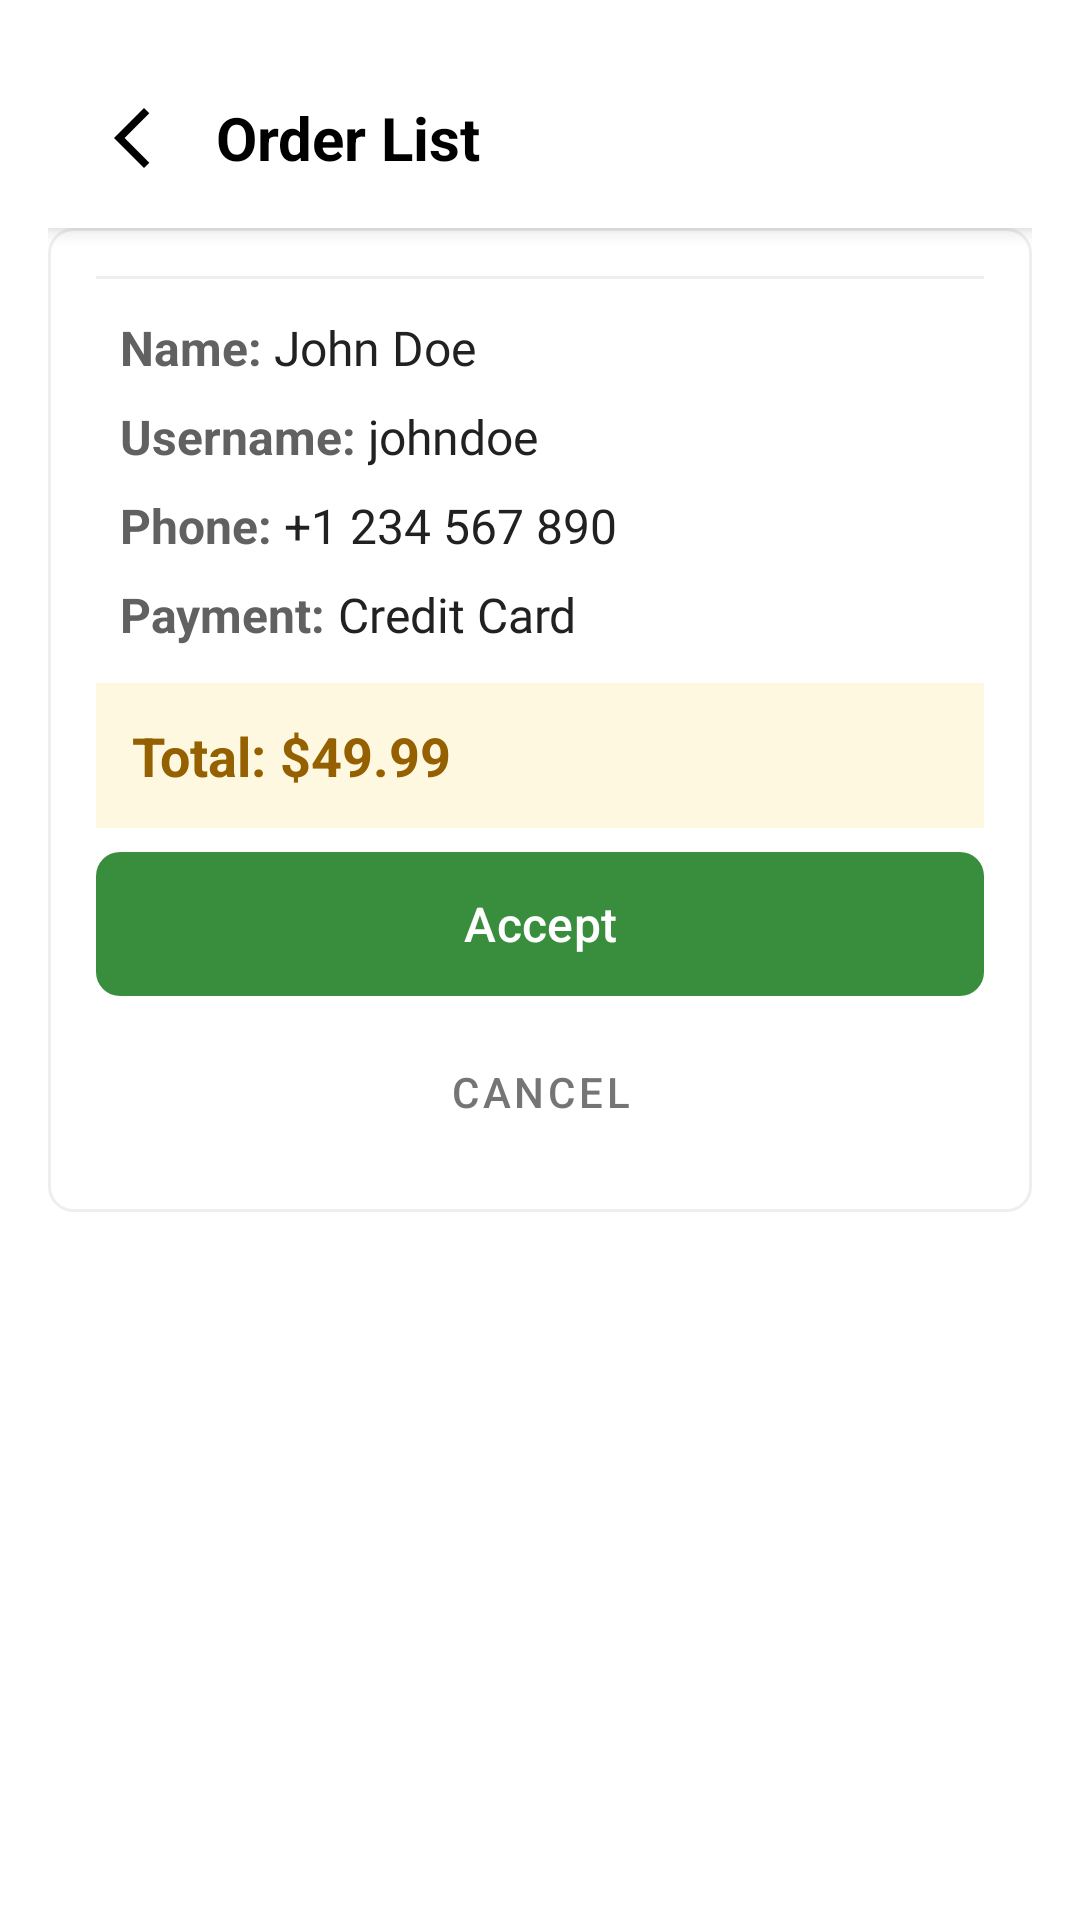

Icons on this 1080×1920 Android screen, each with the point to tap as (x=x, y=y):
Back: (x=131, y=138)
